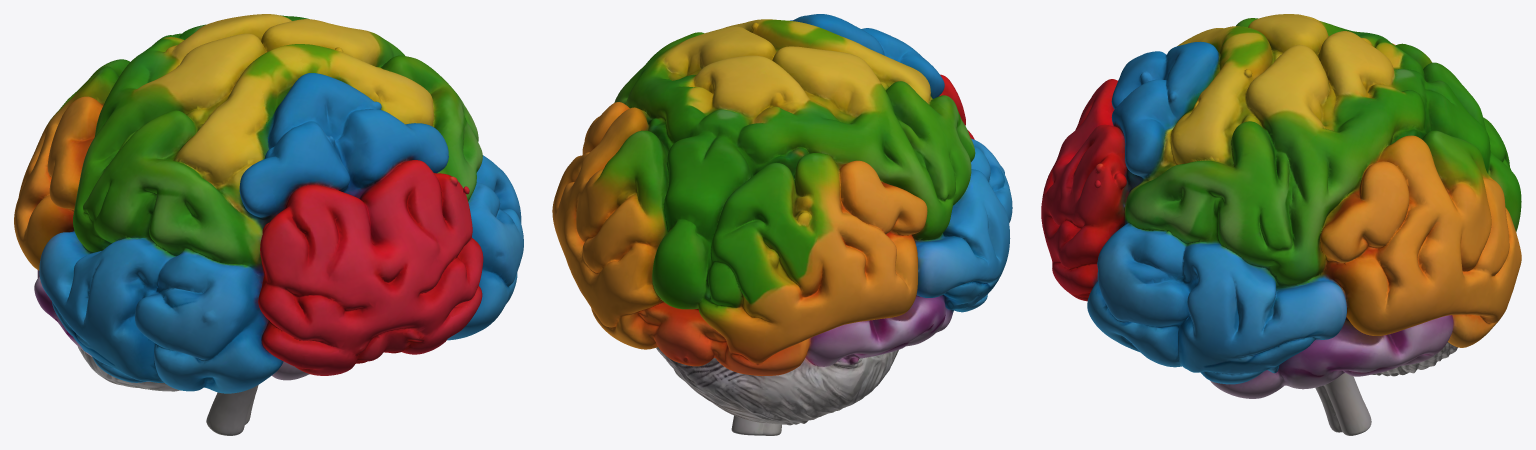
3 views of the same model, side by side, from view 1: azimuth 30°, elevation 25°; view 2: azimuth 150°, elevation 25°; view 3: azimuth 270°, elevation 25° (orthographic). The views are drawn at different scales.
Visible parts, largest first — view 1: tripo_node_f44c1a8a-5355-41f3-891a-bc188245221e; view 2: tripo_node_f44c1a8a-5355-41f3-891a-bc188245221e; view 3: tripo_node_f44c1a8a-5355-41f3-891a-bc188245221e.
Part boxes in pixels (x1,y1,x2,y2): tripo_node_f44c1a8a-5355-41f3-891a-bc188245221e: [14, 14, 523, 435]; tripo_node_f44c1a8a-5355-41f3-891a-bc188245221e: [552, 14, 1012, 435]; tripo_node_f44c1a8a-5355-41f3-891a-bc188245221e: [1041, 14, 1521, 435].
Size of the model in its own units: 0.9945 by 0.9071 by 0.9999.
1 material, 1 textured.
